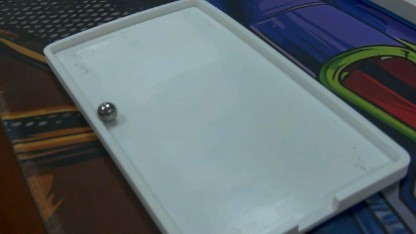ironball: (96, 97, 121, 123)
